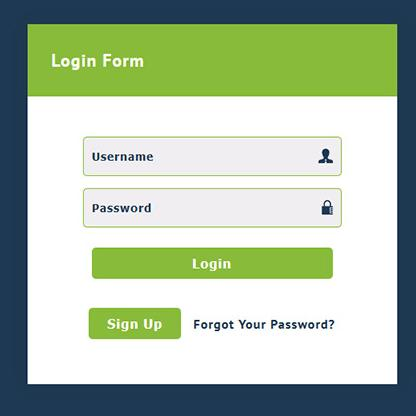button: (91, 245, 335, 281), (87, 307, 184, 341)
field: (81, 135, 344, 178), (81, 187, 343, 228)
